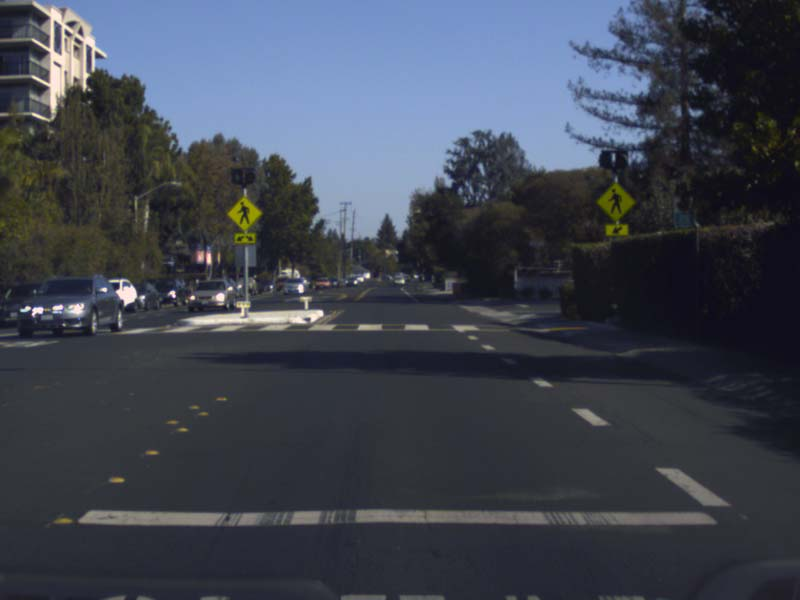Yellow: (616, 153, 626, 166), (244, 171, 254, 182)
